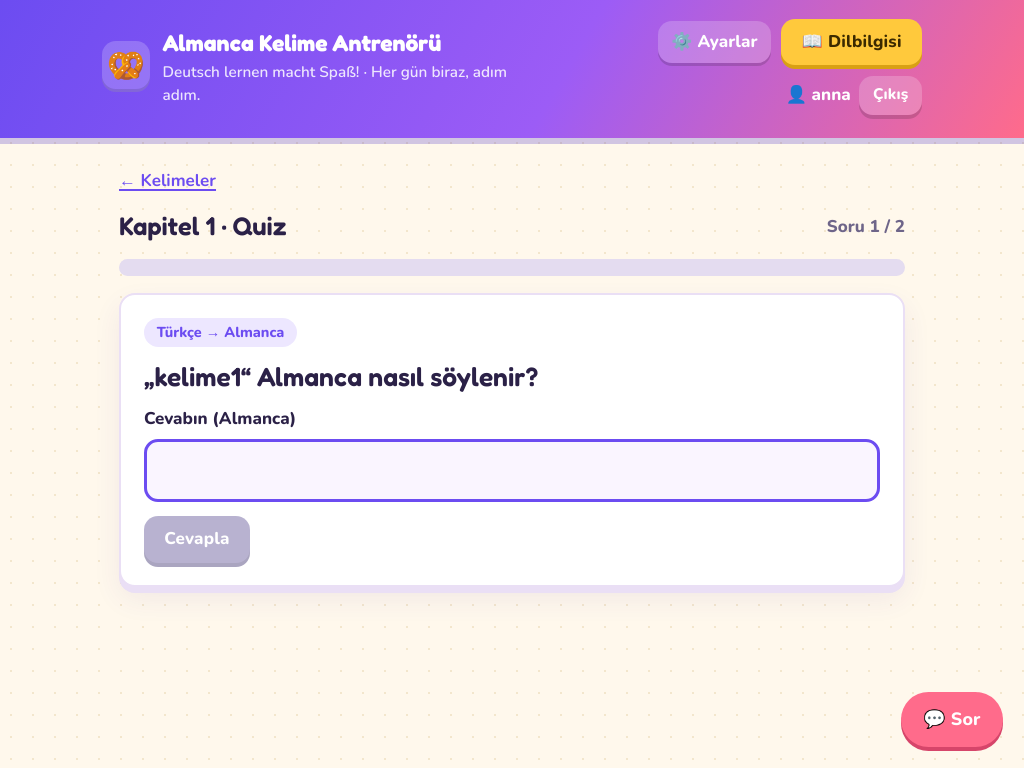
Scenario: QuizPage › explains a wrong answer
Check: the heading "„kelime1“ Almanca nasıl söylenir?" is shown, box [144,360,538,392]
Type "Lebensmittel" into the field labelled "Cevabın (Almanca)" at coordinates (512, 471), box [144,439,880,502]
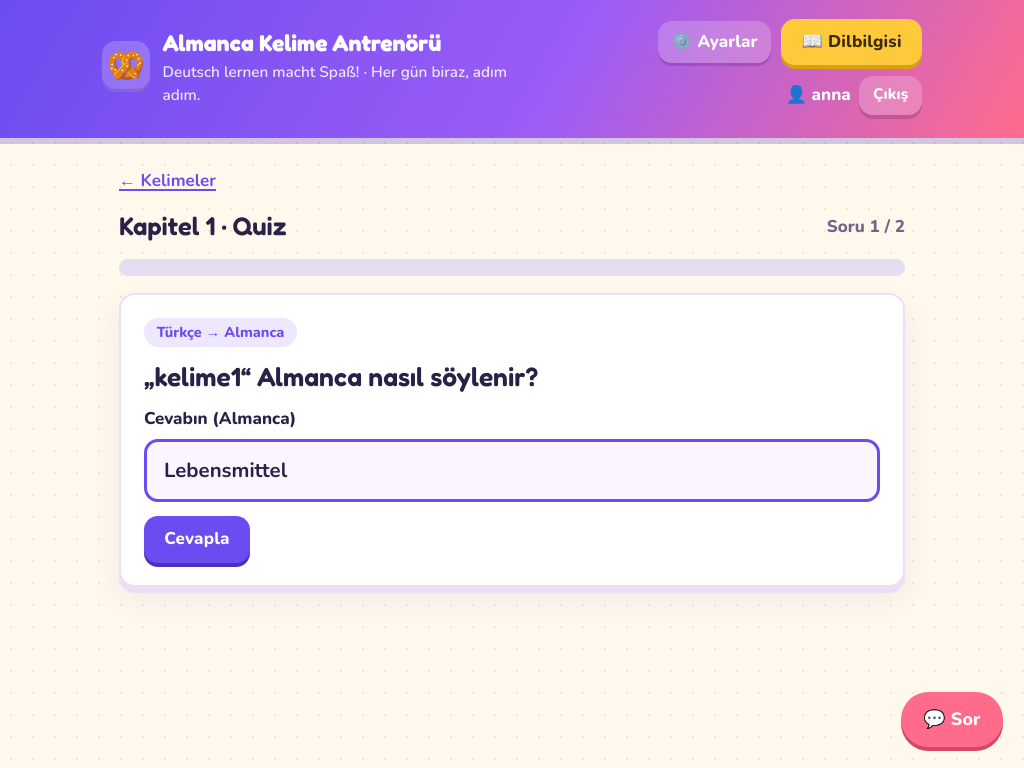
Click the button "Cevapla" at coordinates (197, 539), box [144,516,250,562]
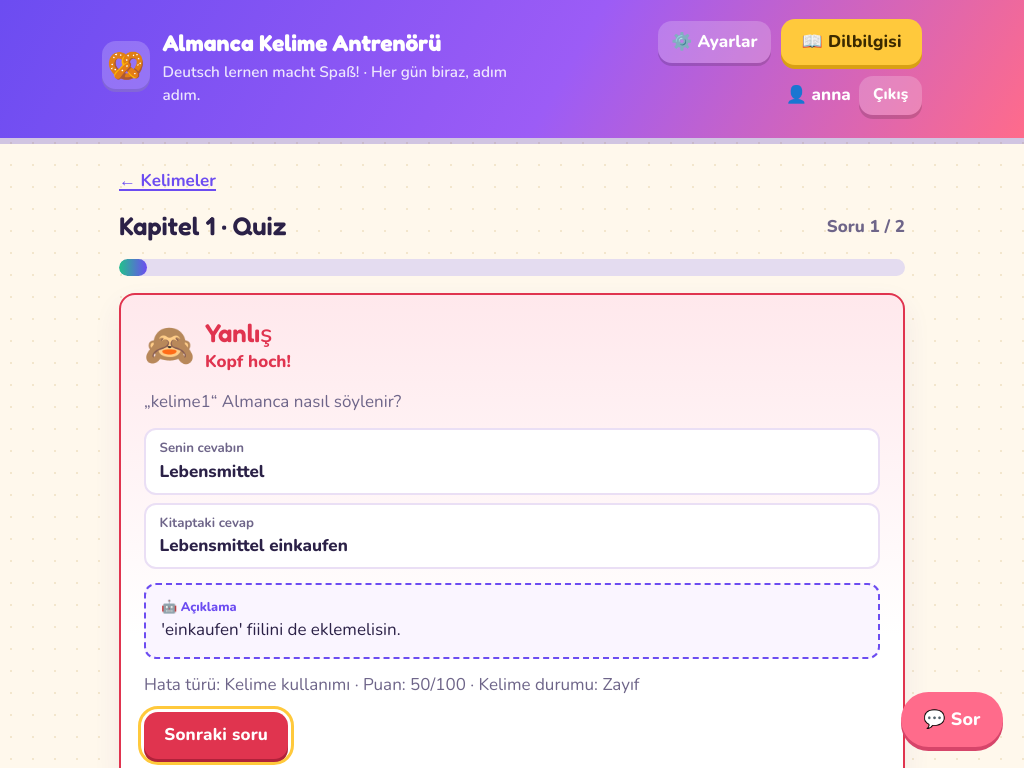
Check: the heading "Yanlış" is shown, box [205,317,272,348]
Check: the text "Lebensmittel" is shown, box [160,460,264,483]
Check: the text "Lebensmittel einkaufen" is shown, box [160,534,348,557]
